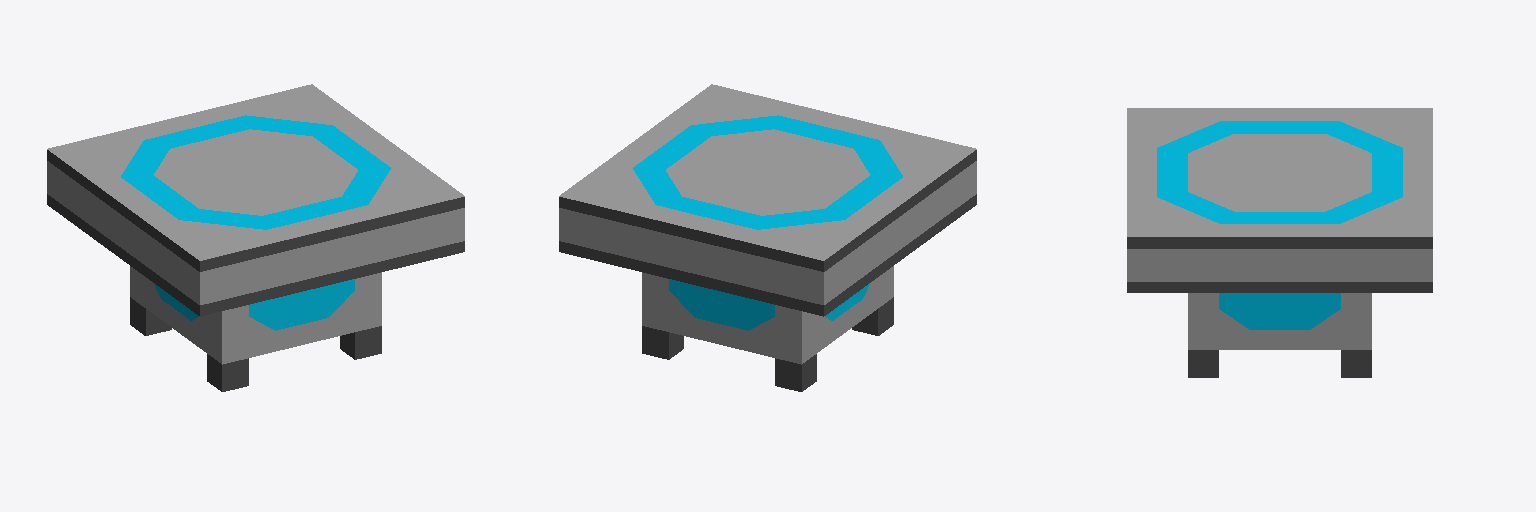
The model's file is platform-large.obj.
3 renders of one model, left to right at view 1: azimuth 30°, elevation 25°; view 2: azimuth 150°, elevation 25°; view 3: azimuth 270°, elevation 25°, orthographic.
Visible parts, largest first — view 1: Mesh1 Platform__Large1 Model; view 2: Mesh1 Platform__Large1 Model; view 3: Mesh1 Platform__Large1 Model.
Boxes of the visible parts, x1=… form: Mesh1 Platform__Large1 Model: x1=47, y1=84, x2=464, y2=391; Mesh1 Platform__Large1 Model: x1=559, y1=84, x2=976, y2=391; Mesh1 Platform__Large1 Model: x1=1127, y1=108, x2=1432, y2=377.
Bounding box in the file's own units: 5 × 3 × 5.